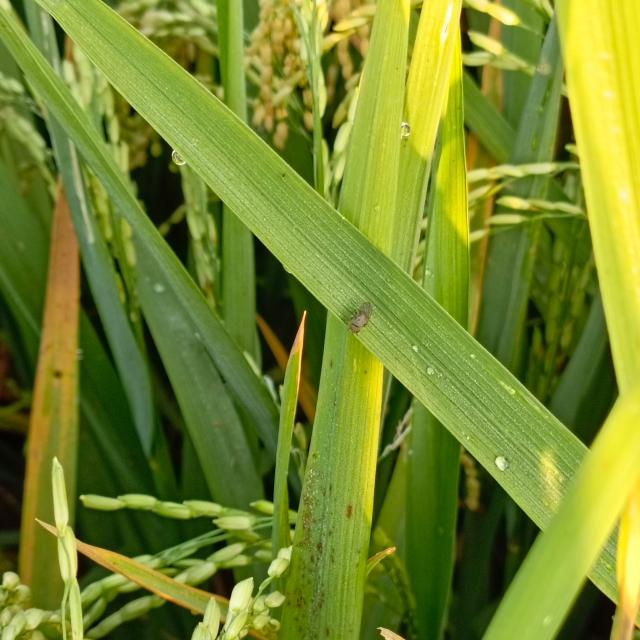Bacterial leaf blight: (61, 131, 111, 251)
Brown spot: (18, 167, 85, 587)
Leaf scald: (336, 300, 381, 338)
insects: (336, 502, 359, 516)
